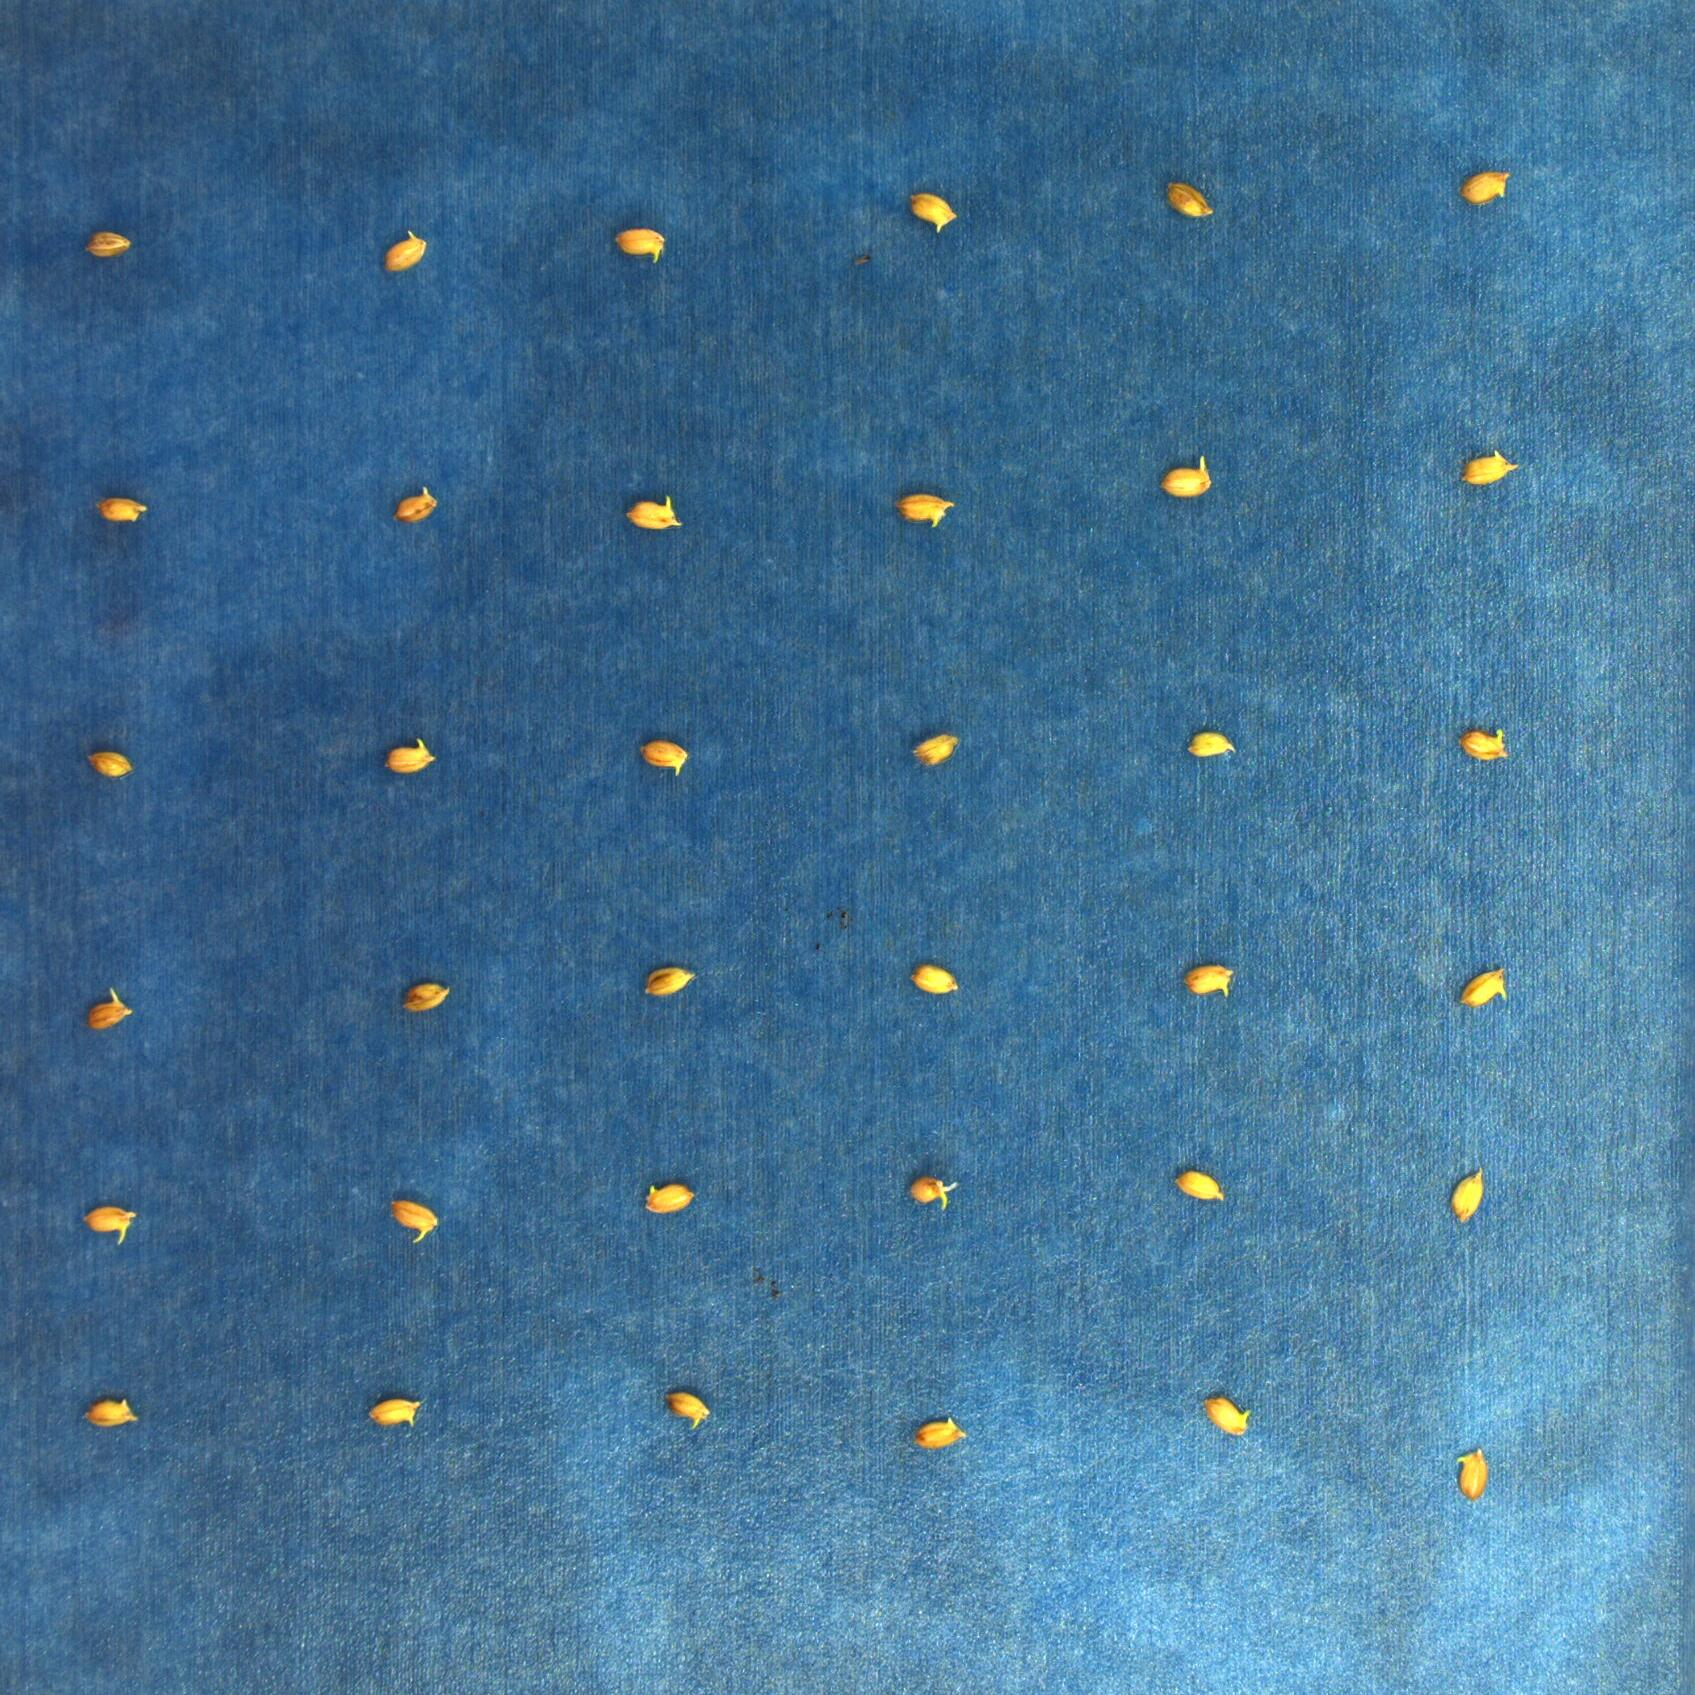not sprout: (1187, 1381, 1259, 1465), (1447, 445, 1527, 509), (1458, 951, 1524, 1028), (81, 976, 143, 1052), (653, 1380, 737, 1433), (1431, 1161, 1496, 1225), (619, 486, 702, 536), (893, 478, 973, 528), (640, 1167, 711, 1223), (1458, 151, 1516, 213), (78, 1385, 146, 1437), (373, 228, 436, 282), (365, 1383, 422, 1440), (900, 191, 958, 248), (376, 733, 444, 781), (897, 723, 962, 771), (78, 750, 141, 798), (633, 961, 698, 1007), (385, 1194, 445, 1243), (1159, 453, 1220, 503), (1454, 722, 1520, 765), (73, 1205, 140, 1246), (911, 951, 964, 1001), (1170, 1161, 1226, 1208), (911, 1409, 973, 1450), (635, 730, 689, 775), (96, 484, 151, 529), (1158, 180, 1209, 225), (1180, 722, 1236, 762), (613, 220, 666, 262), (391, 483, 444, 523), (397, 976, 442, 1023), (81, 227, 130, 269), (1453, 1445, 1489, 1496), (1184, 961, 1232, 998)
sprout: (913, 1172, 959, 1212)
